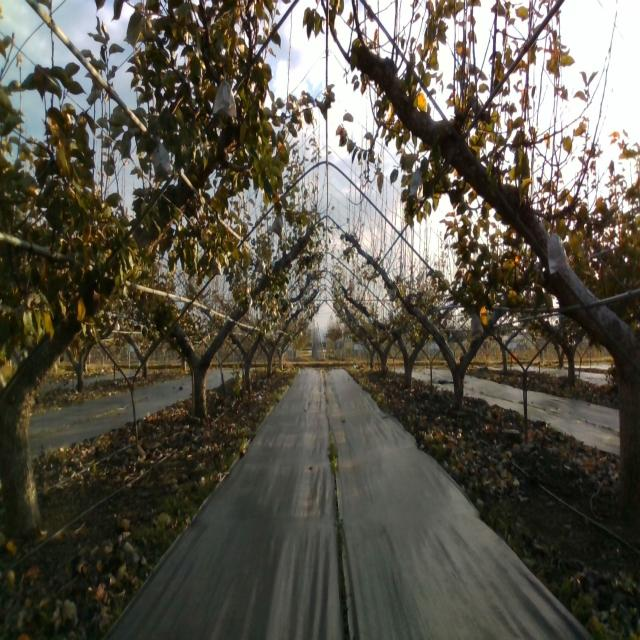pearbags: (213, 70, 237, 119), (547, 230, 567, 274), (152, 136, 171, 181), (409, 166, 424, 200), (270, 209, 286, 240), (470, 306, 484, 336), (209, 256, 222, 275)
